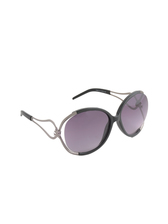glasses: (16, 84, 153, 153)
